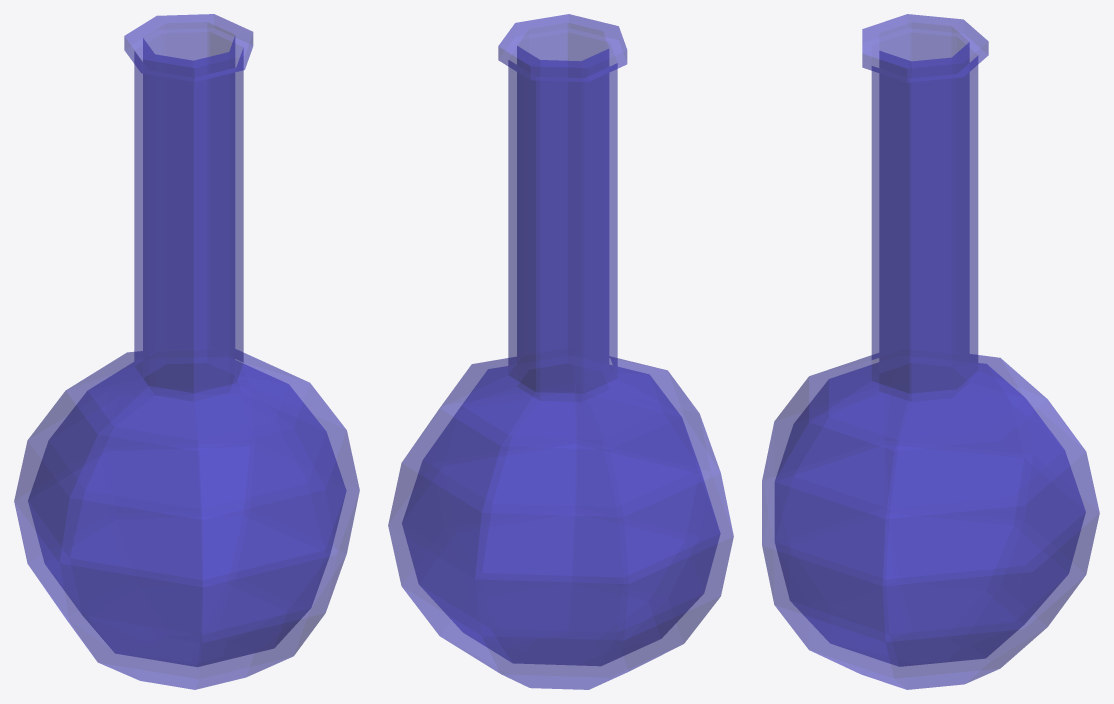
File: probeta.fbx
3 views of the same model, side by side, from view 1: azimuth 30°, elevation 25°; view 2: azimuth 150°, elevation 25°; view 3: azimuth 270°, elevation 25° (orthographic).
Parts seen in each view (by area): view 1: Sphere; view 2: Sphere; view 3: Sphere.
Part boxes in pixels (x1,y1,x2,y2): Sphere: [14, 14, 359, 689]; Sphere: [388, 14, 733, 689]; Sphere: [762, 14, 1099, 689].
Size of the model in its own units: 237 by 468 by 231.
